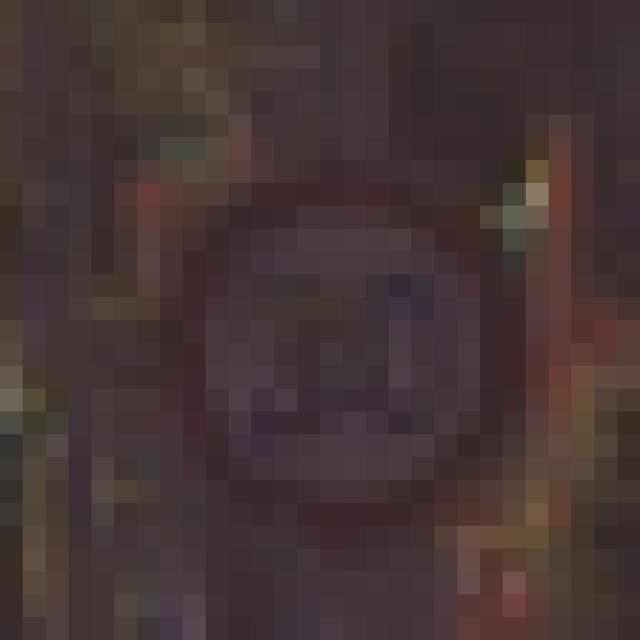Speed Limit -30-: (126, 103, 491, 514)
